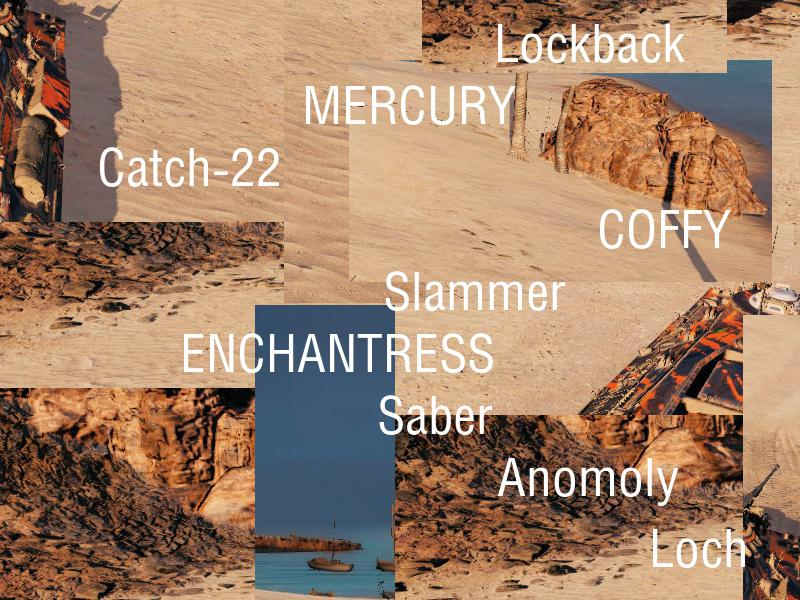line: (496, 458, 678, 505), (301, 85, 500, 124), (179, 333, 378, 372), (493, 24, 684, 62), (382, 271, 565, 310), (96, 147, 278, 186), (596, 209, 730, 248), (376, 395, 492, 434), (648, 529, 744, 567)
